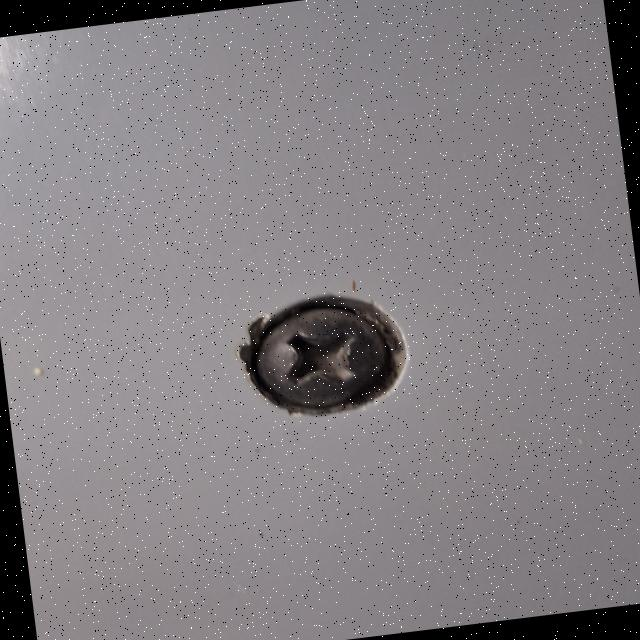Phillips: (211, 282, 413, 438)
